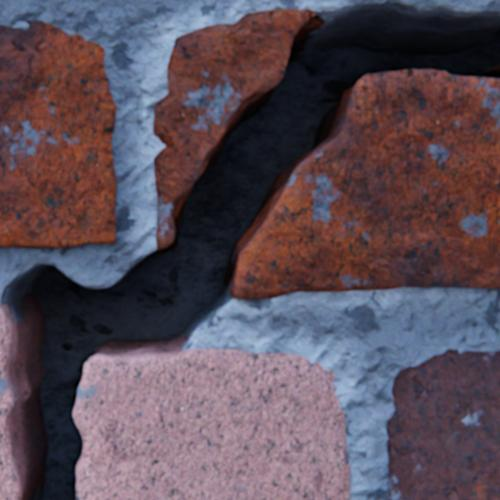brick: (0, 22, 116, 247), (385, 348, 499, 499)
broken_brick: (232, 70, 499, 299), (73, 348, 349, 499), (153, 10, 315, 248), (0, 306, 21, 499)
crack: (1, 0, 499, 499)
